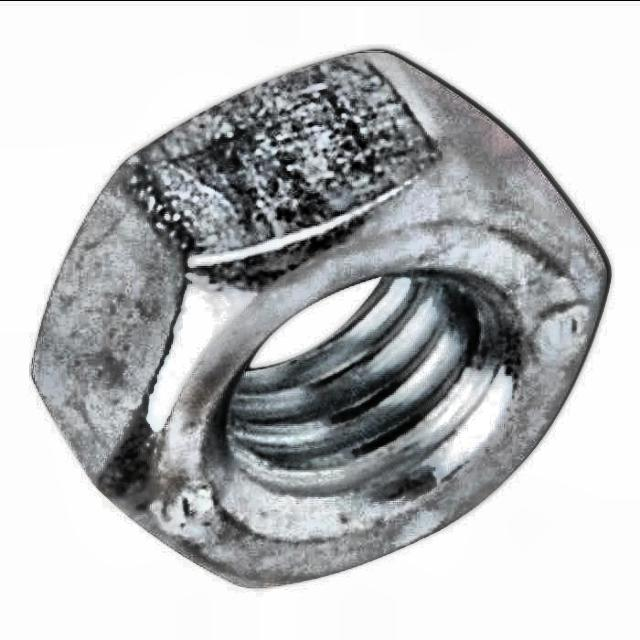Nut Detection - v1 Nut Dataset: (20, 36, 616, 593)
